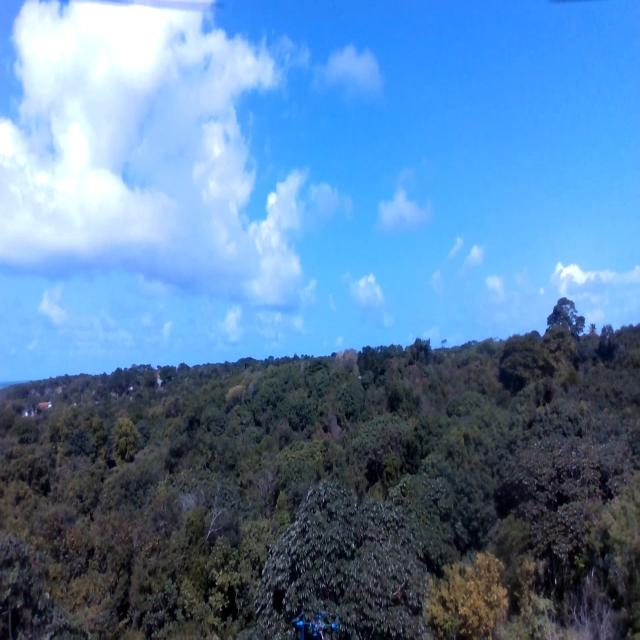-uav-: (291, 600, 346, 640)
